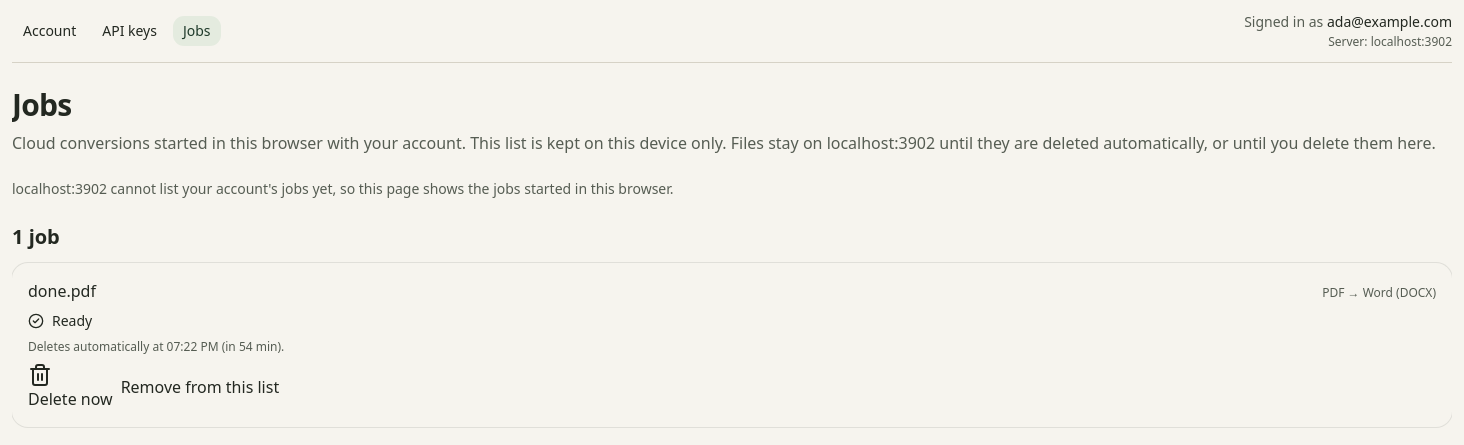
Scenario: jobs page › deletes a job now and leaves a focused tombstone
Click the button with aria-label "Delete now done.pdf from the server".
click(70, 387)  # box [28, 363, 113, 411]
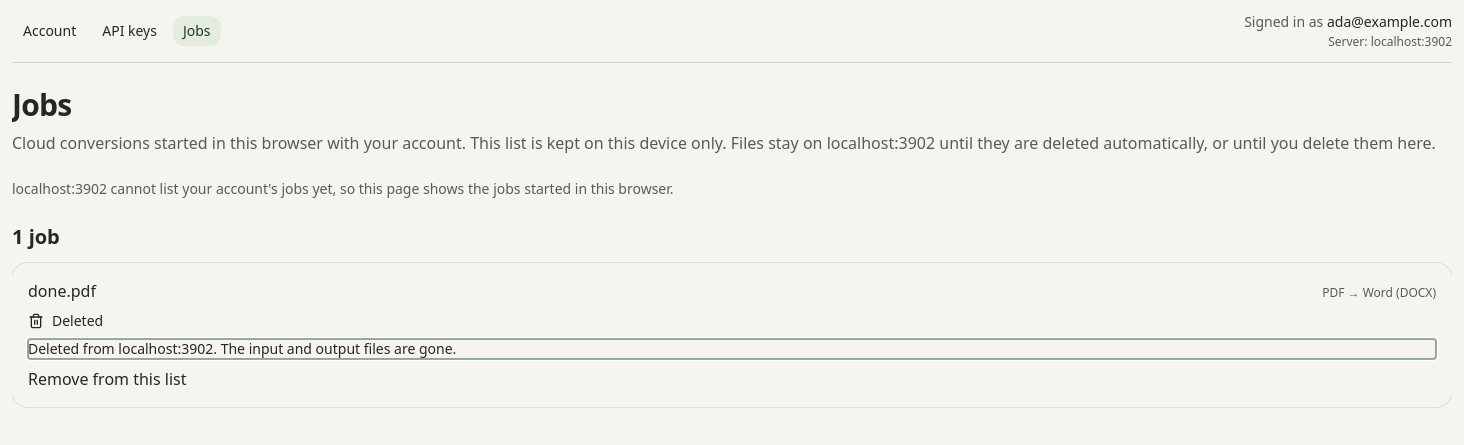
Result: the text "Deleted" is shown at [52, 311, 103, 331]
Result: the button "Delete now" is gone
